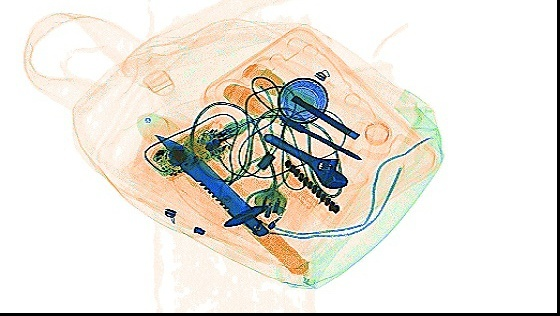knife: (153, 133, 308, 273)
